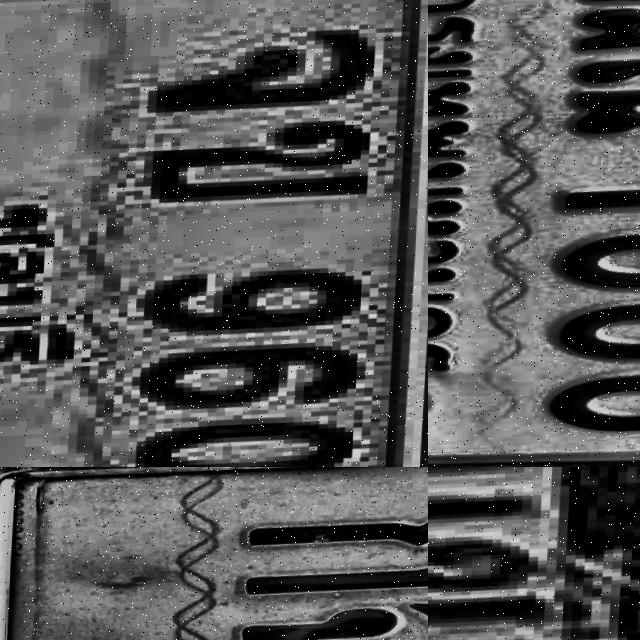license-plate: (0, 0, 428, 467), (428, 0, 640, 467), (0, 467, 428, 640), (428, 467, 640, 640)
